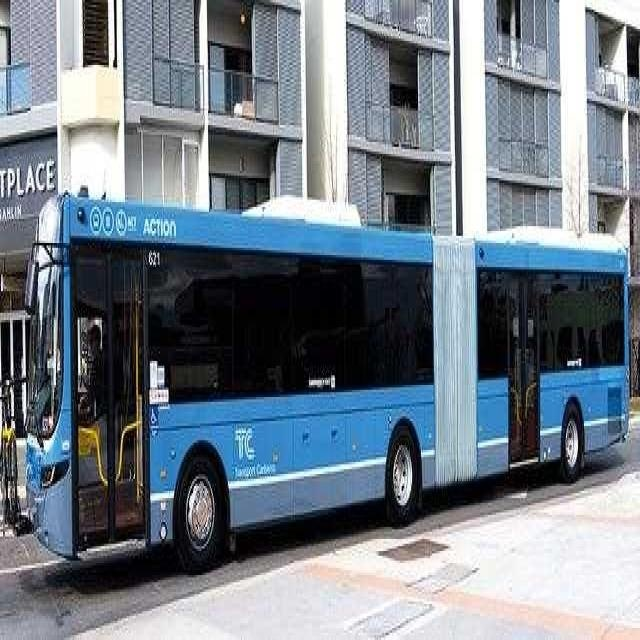Bus: (23, 145, 632, 578)
